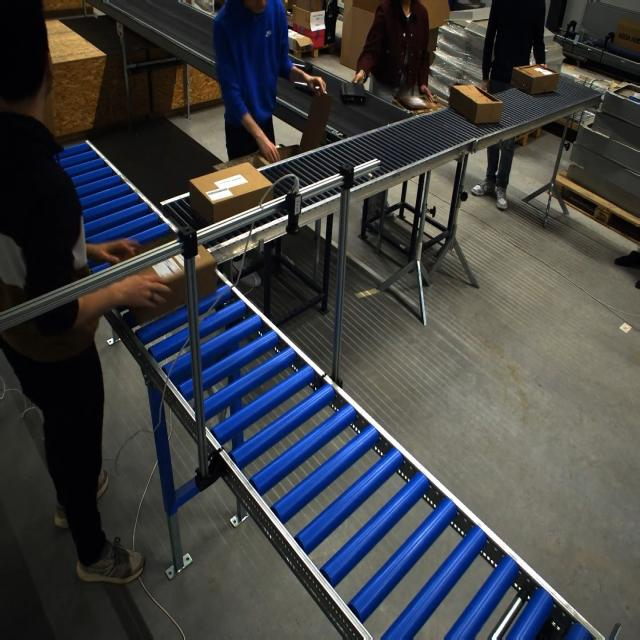box: (123, 241, 216, 325), (189, 163, 274, 227), (448, 83, 503, 125), (510, 64, 560, 96), (288, 30, 316, 56)
